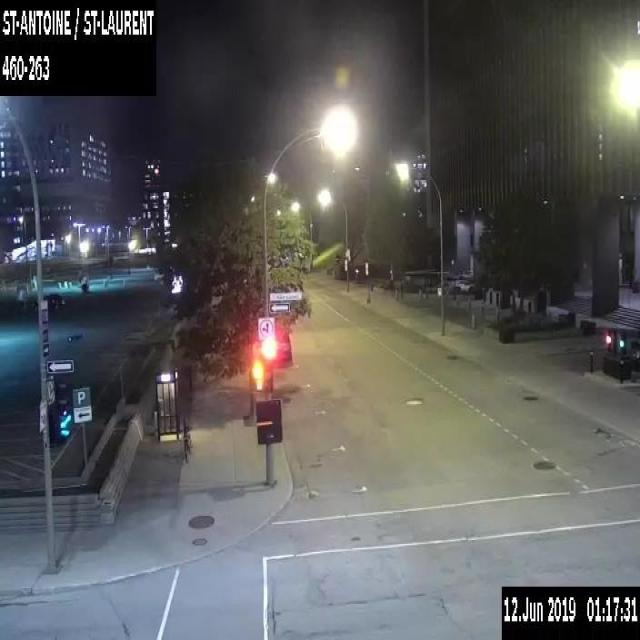vehicle: (271, 329, 291, 362), (31, 291, 65, 310)
